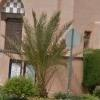Palm tree: (14, 13, 70, 95)
